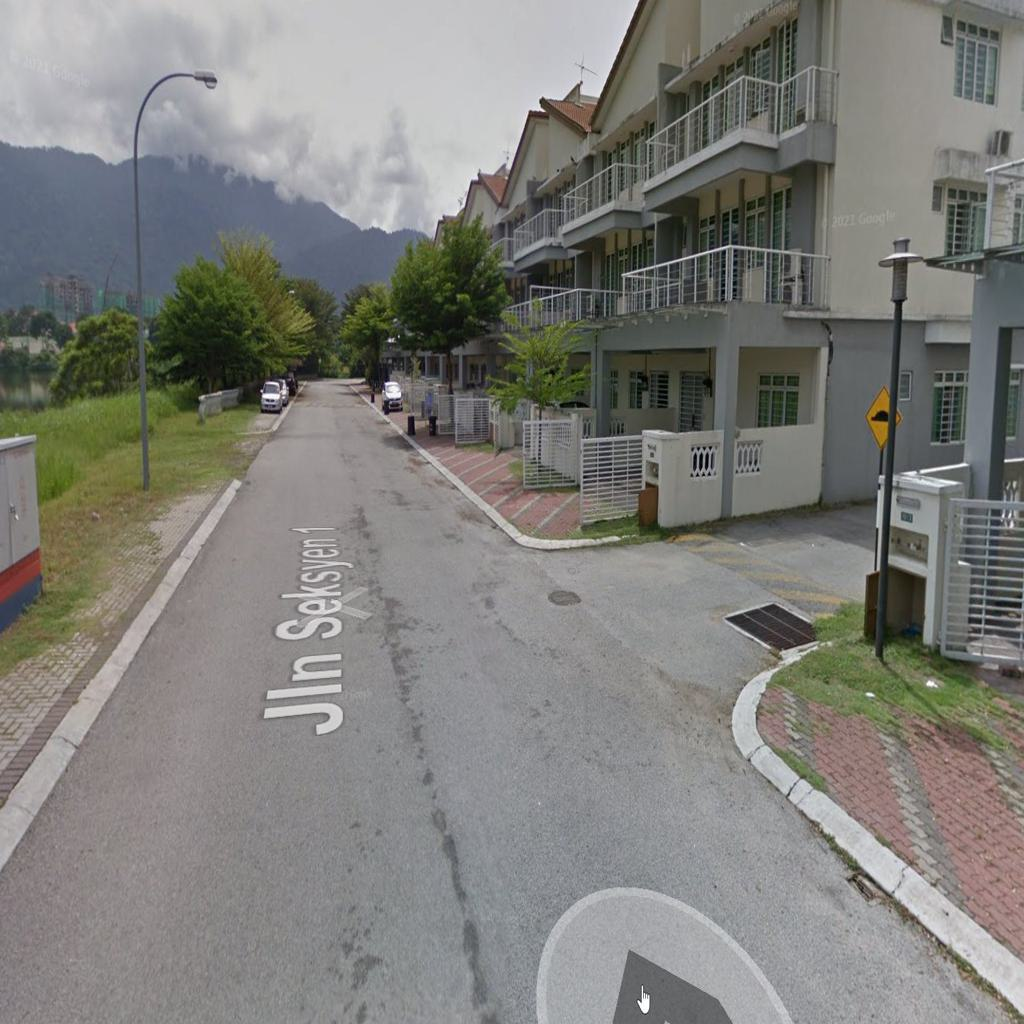Junction: (496, 483, 880, 724)
